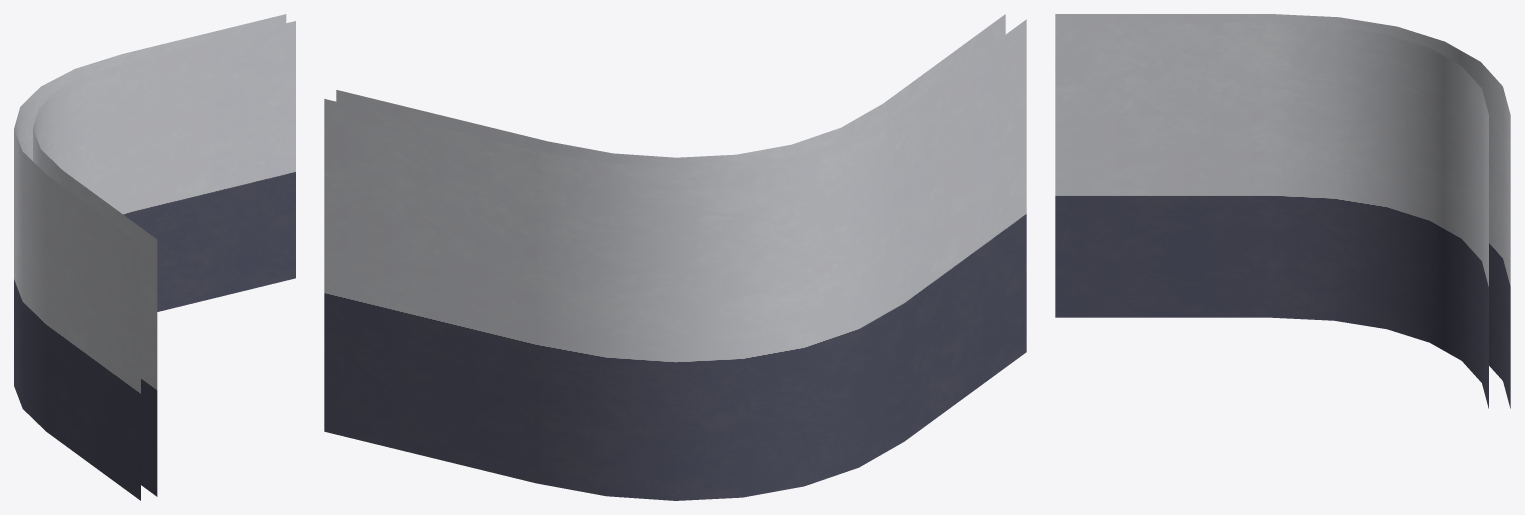
Rendered from Modular_Wall_Curved.fbx.
3 views of the same model, side by side, from view 1: azimuth 30°, elevation 25°; view 2: azimuth 150°, elevation 25°; view 3: azimuth 270°, elevation 25° (orthographic). The views are drawn at different scales.
Parts seen in each view (by area): view 1: Modular_Wall.002; view 2: Modular_Wall.002; view 3: Modular_Wall.002.
Part boxes in pixels (<box>): Modular_Wall.002: <box>14,14,295,500</box>; Modular_Wall.002: <box>324,14,1026,500</box>; Modular_Wall.002: <box>1055,14,1510,408</box>.
Size of the model in its own units: 4.2 by 3 by 4.2.
